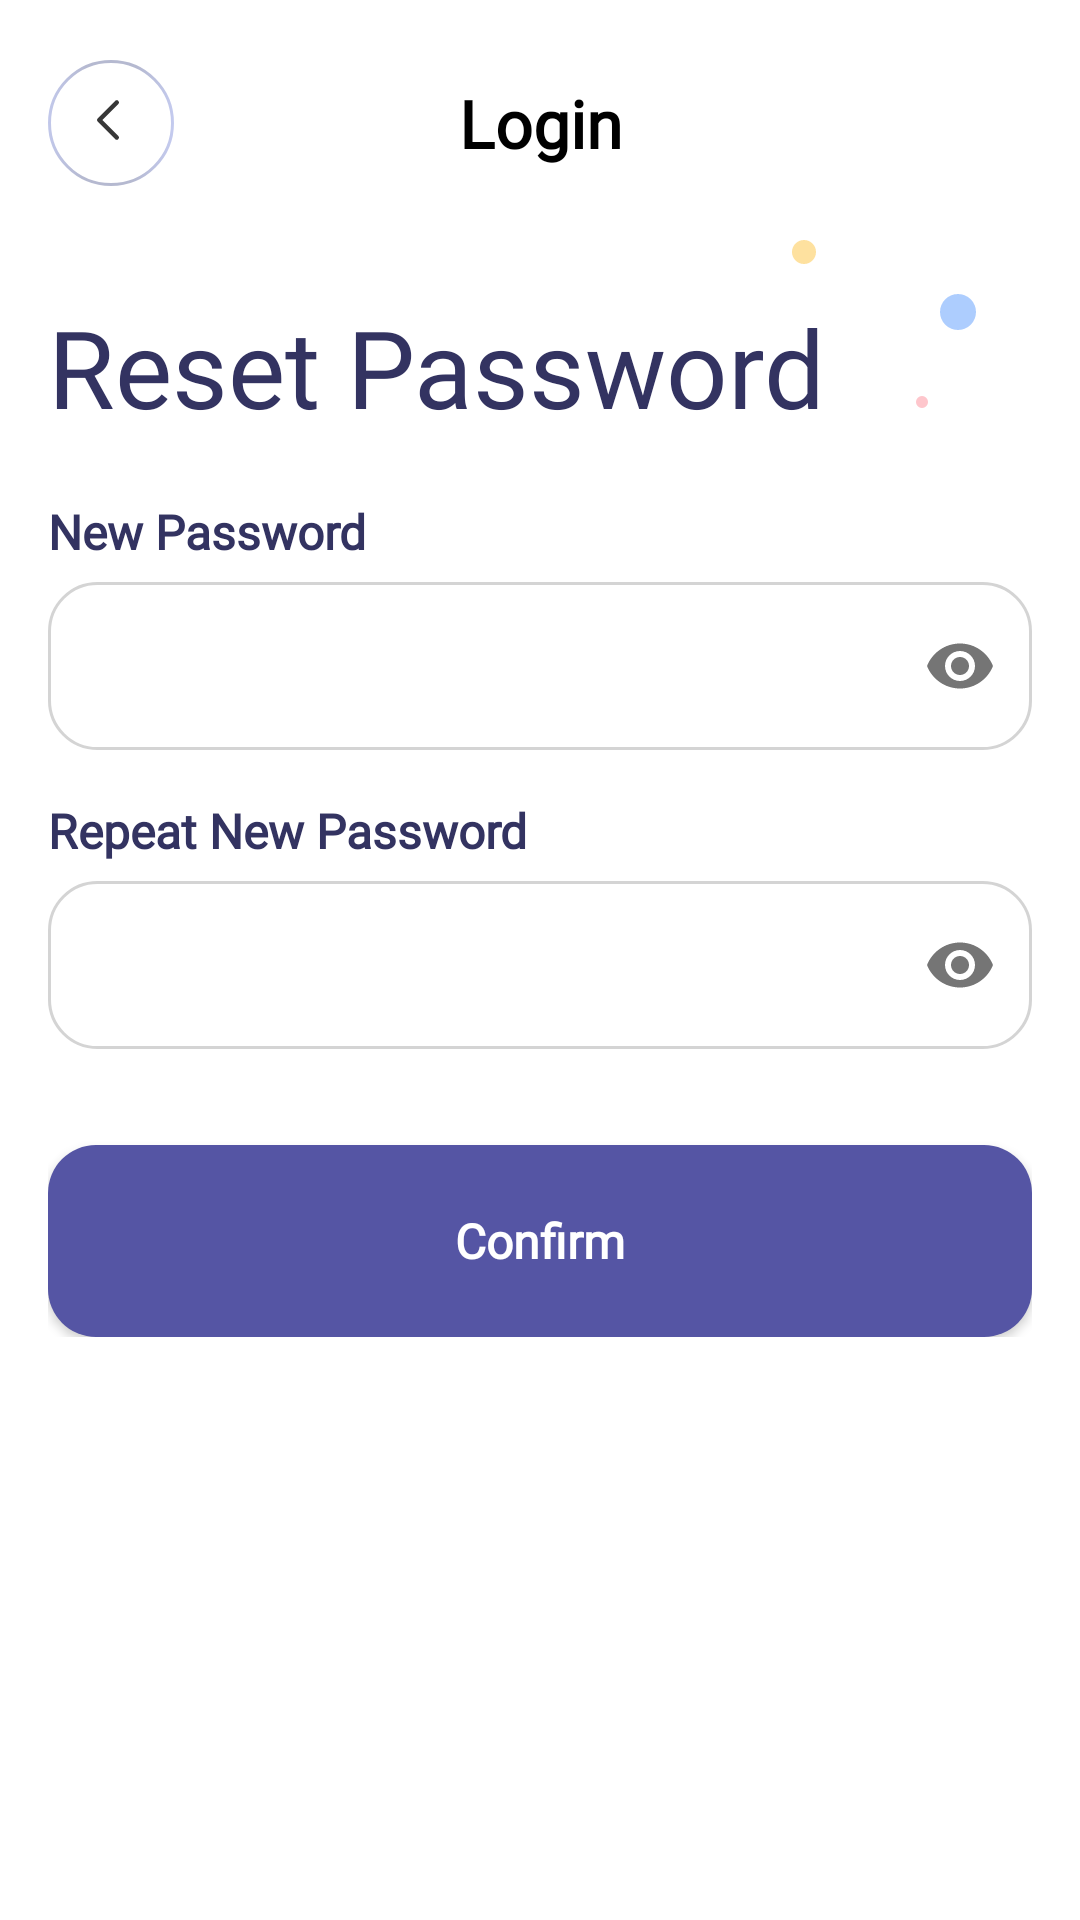

Named icons in this screenshot (1080 x 1920) and their centers, [x,y]:
get back: [111,123]
